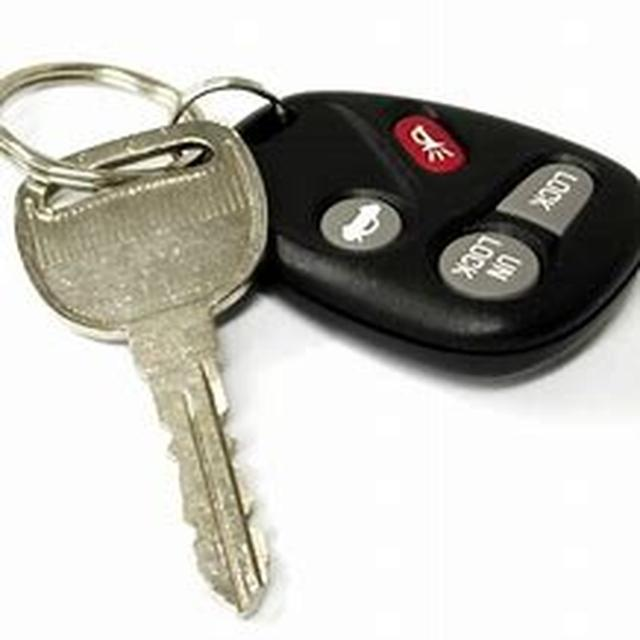key: (216, 83, 602, 417), (55, 75, 248, 627)
